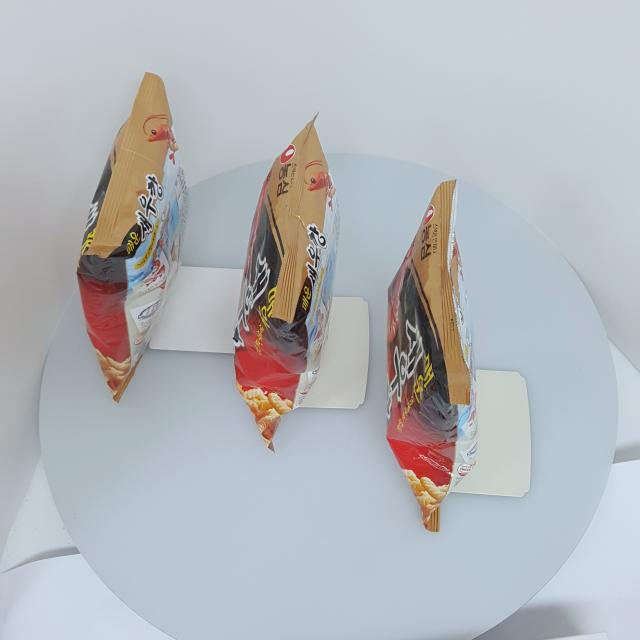-90G: (77, 73, 191, 404), (233, 112, 342, 455), (387, 179, 479, 533)
